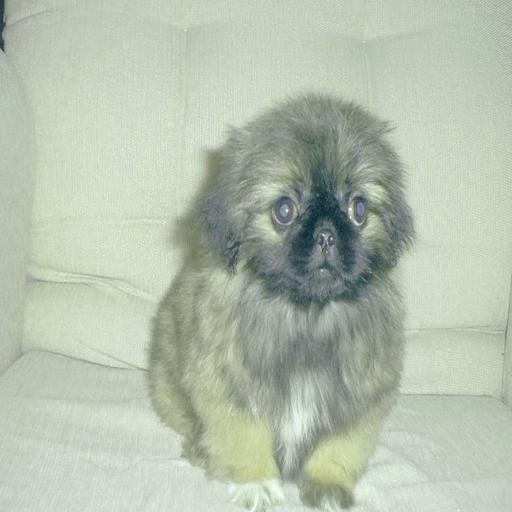dog_face: (213, 94, 413, 299)
